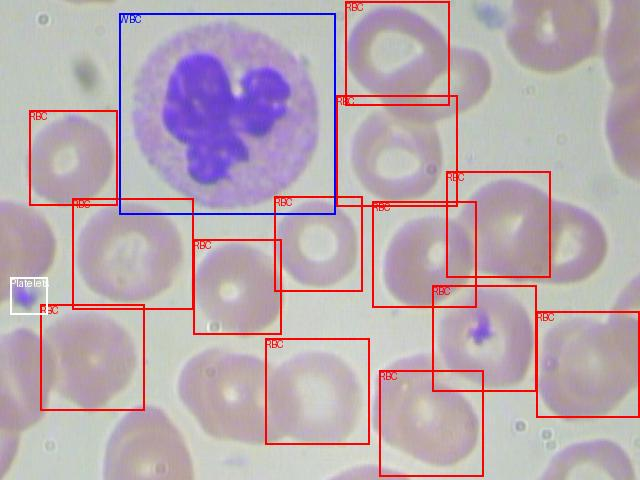Platelets: (10, 277, 47, 314)
RBC: (72, 198, 193, 309), (336, 95, 457, 206), (372, 201, 476, 307), (446, 171, 550, 277), (40, 304, 144, 410), (265, 338, 369, 444), (379, 370, 483, 476), (432, 285, 536, 391), (536, 311, 639, 417), (345, 1, 449, 105), (274, 196, 362, 291), (193, 239, 281, 334), (29, 110, 117, 205)
WBC: (119, 13, 335, 214)
